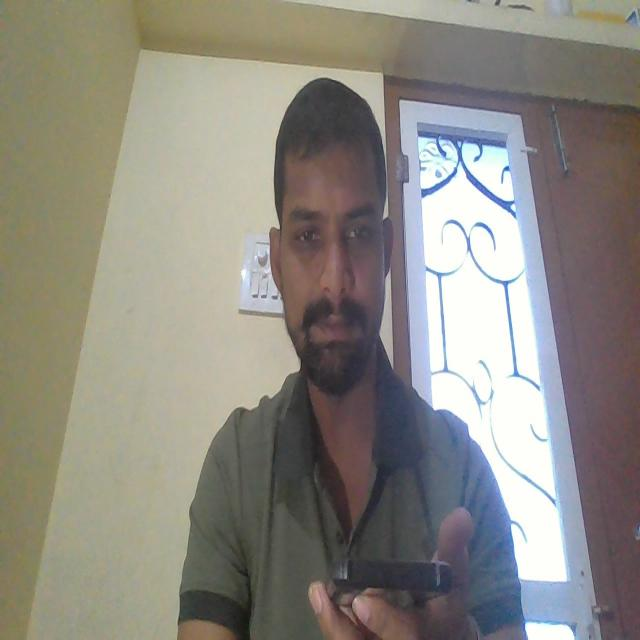phone: (336, 551, 458, 596)
